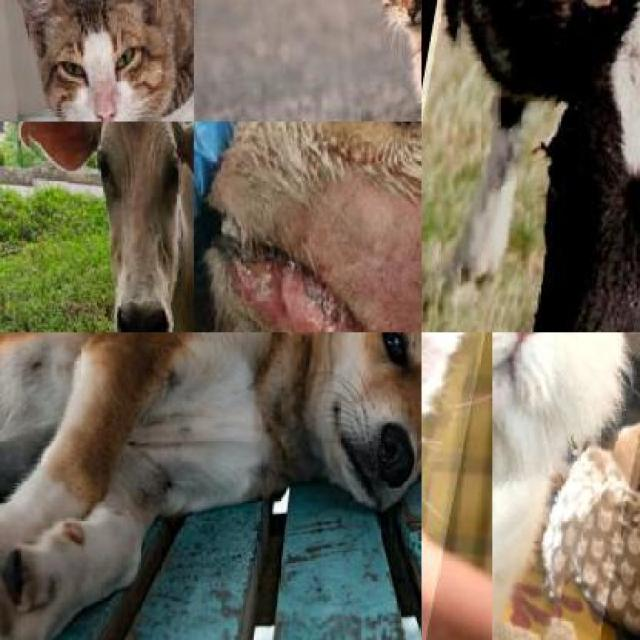cat: (492, 332, 640, 640), (0, 0, 194, 122), (422, 332, 492, 640)
cow: (421, 0, 640, 332), (8, 121, 194, 332)
dog: (0, 332, 422, 554), (194, 121, 421, 332)
injured: (214, 222, 361, 332)
